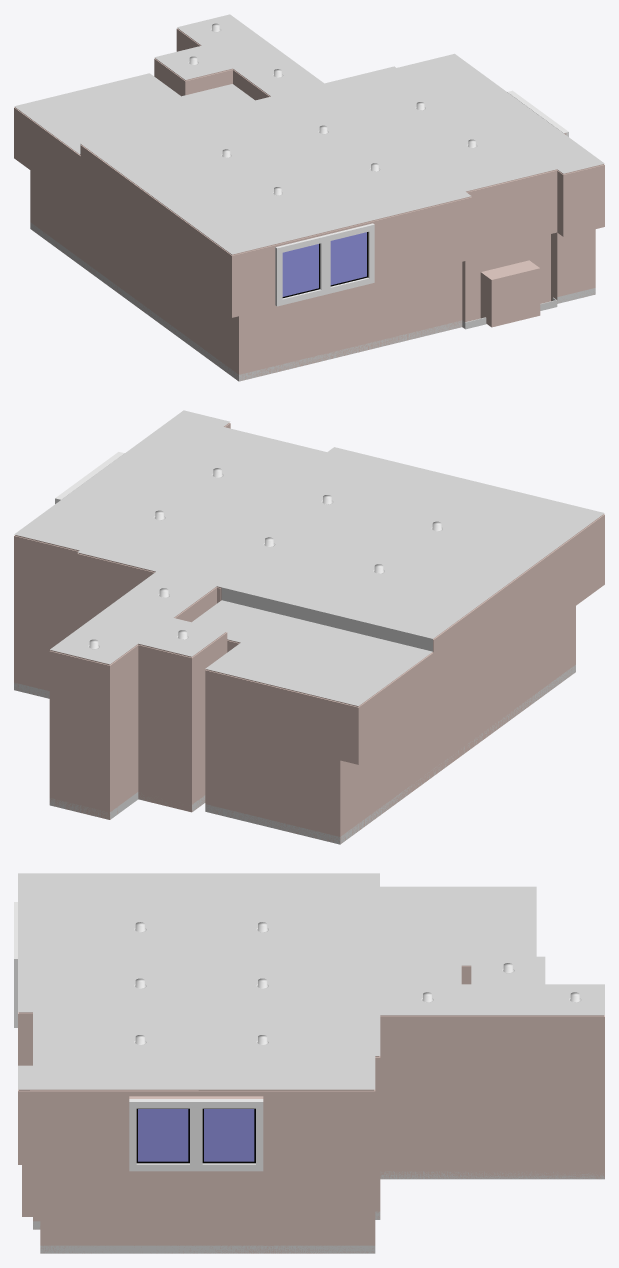
File: basementV2.fbx
The picture shows the model from 3 angles, top to bottom: view 1: azimuth 30°, elevation 25°; view 2: azimuth 150°, elevation 25°; view 3: azimuth 270°, elevation 25°; orthographic projection. The views are drawn at different scales.
Parts seen in each view (by area): view 1: Ceiling, Wall.003, Wall.004, Fireplace, Window.001, Baseboard, Wall.000, LightStrip; view 2: Ceiling, Wall.004, Wall.000, Wall.005, Wall.001, Baseboard, LightStrip; view 3: Ceiling, Wall.002, Wall.000, Window, Baseboard, Fireplace, LightStrip, Wall.001.
Part boxes in pixels (x1=…): Ceiling: x1=14, y1=14, x2=604, y2=254; Wall.003: x1=232, y1=165, x2=604, y2=380; Wall.004: x1=14, y1=108, x2=238, y2=380; Fireplace: x1=462, y1=170, x2=563, y2=327; Window.001: x1=275, y1=223, x2=374, y2=306; Baseboard: x1=30, y1=222, x2=595, y2=381; Wall.000: x1=154, y1=29, x2=269, y2=100; LightStrip: x1=14, y1=28, x2=604, y2=255; Ceiling: x1=14, y1=410, x2=604, y2=705; Wall.004: x1=340, y1=515, x2=604, y2=844; Wall.000: x1=49, y1=588, x2=227, y2=819; Wall.005: x1=205, y1=641, x2=358, y2=843; Wall.001: x1=14, y1=536, x2=154, y2=697; Baseboard: x1=14, y1=665, x2=575, y2=844; LightStrip: x1=14, y1=423, x2=604, y2=707; Ceiling: x1=18, y1=873, x2=604, y2=1089; Wall.002: x1=18, y1=1091, x2=375, y2=1253; Wall.000: x1=380, y1=1017, x2=604, y2=1179; Window: x1=129, y1=1099, x2=263, y2=1171; Baseboard: x1=33, y1=1171, x2=604, y2=1253; Fireplace: x1=18, y1=1014, x2=40, y2=1229; LightStrip: x1=18, y1=965, x2=604, y2=1091; Wall.001: x1=375, y1=1057, x2=380, y2=1219.
Bounding box in the file's own units: 711 × 252 × 797.
